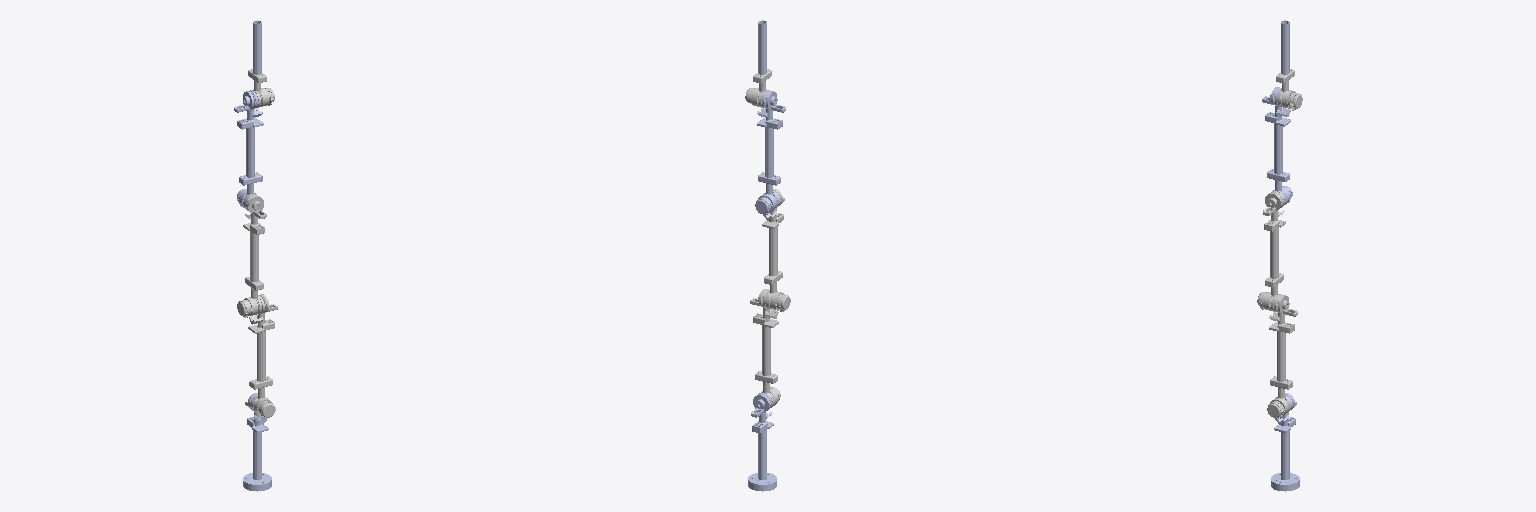
robot.urdf — out:
<?xml version="1.0" ?>
<robot
  name="out">
  <link
    name="base_link">
    <inertial>
      <origin
        xyz="3.81830135287586E-07 0.000490233160051715 0.0680911726169037"
        rpy="0 0 0" />
      <mass
        value="0.0392655917096801" />
      <inertia
        ixx="9.43410382858083E-05"
        ixy="-1.44041094435164E-10"
        ixz="-5.32973135063326E-10"
        iyy="9.35104576671302E-05"
        iyz="-7.06820587107806E-07"
        izz="4.67523617248987E-06" />
    </inertial>
    <visual>
      <origin
        xyz="0 0 0"
        rpy="0 0 0" />
      <geometry>
        <mesh
          filename="package://out/meshes/base_link.STL" />
      </geometry>
      <material
        name="">
        <color
          rgba="0.792156862745098 0.819607843137255 0.933333333333333 1" />
      </material>
    </visual>
    <collision>
      <origin
        xyz="0 0 0"
        rpy="0 0 0" />
      <geometry>
        <mesh
          filename="package://out/meshes/base_link.STL" />
      </geometry>
    </collision>
  </link>
  <link
    name="l1">
    <inertial>
      <origin
        xyz="-0.0775363356468722 0.000422757078719242 0.0209719220698855"
        rpy="0 0 0" />
      <mass
        value="0.0481140132679658" />
      <inertia
        ixx="4.25376178264651E-06"
        ixy="9.89719233172601E-07"
        ixz="-3.66991350194768E-06"
        iyy="0.000166336706299027"
        iyz="6.6021107795002E-09"
        izz="0.000167508840406389" />
    </inertial>
    <visual>
      <origin
        xyz="0 0 0"
        rpy="0 0 0" />
      <geometry>
        <mesh
          filename="package://out/meshes/l1.STL" />
      </geometry>
      <material
        name="">
        <color
          rgba="0.847058823529412 0.847058823529412 0.847058823529412 1" />
      </material>
    </visual>
    <collision>
      <origin
        xyz="0 0 0"
        rpy="0 0 0" />
      <geometry>
        <mesh
          filename="package://out/meshes/l1.STL" />
      </geometry>
    </collision>
  </link>
  <joint
    name="j1"
    type="revolute">
    <origin
      xyz="0 0.00948960000093205 0.124300000000103"
      rpy="1.5707963267949 1.5707963267949 0" />
    <parent
      link="base_link" />
    <child
      link="l1" />
    <axis
      xyz="0 0 1" />
	<limit effort="300" lower="-2.96705972839" upper="2.96705972839" velocity="10"/>
  </joint>
  <link
    name="l2">
    <inertial>
      <origin
        xyz="-0.0775266421097145 0.00040698713081562 0.0209719226551794"
        rpy="0 0 0" />
      <mass
        value="0.048114013091611" />
      <inertia
        ixx="4.24702973489523E-06"
        ixy="1.05106797568013E-06"
        ixz="-3.67698119293867E-06"
        iyy="0.000166415860643582"
        iyz="1.81256684874256E-08"
        izz="0.000167581262863039" />
    </inertial>
    <visual>
      <origin
        xyz="0 0 0"
        rpy="0 0 0" />
      <geometry>
        <mesh
          filename="package://out/meshes/l2.STL" />
      </geometry>
      <material
        name="">
        <color
          rgba="0.847058823529412 0.847058823529412 0.847058823529412 1" />
      </material>
    </visual>
    <collision>
      <origin
        xyz="0 0 0"
        rpy="0 0 0" />
      <geometry>
        <mesh
          filename="package://out/meshes/l2.STL" />
      </geometry>
    </collision>
  </link>
  <joint
    name="j2"
    type="revolute">
    <origin
      xyz="-0.152400000000055 0.00948960000012492 0.0199895999994416"
      rpy="1.57079632677987 6.81298260196904E-18 4.58383439686871E-17" />
    <parent
      link="l1" />
    <child
      link="l2" />
    <axis
      xyz="0 0 1" />
	<limit effort="300" lower="-2.96705972839" upper="2.96705972839" velocity="10"/>
  </joint>
  <link
    name="l3">
    <inertial>
      <origin
        xyz="0.077526636321468 -0.000406452303621498 0.0209719515362998"
        rpy="0 0 0" />
      <mass
        value="0.0481140130743189" />
      <inertia
        ixx="4.24699051210553E-06"
        ixy="1.05330102905974E-06"
        ixz="3.67688985446539E-06"
        iyy="0.00016641680669748"
        iyz="-1.85466771433333E-08"
        izz="0.000167582176419347" />
    </inertial>
    <visual>
      <origin
        xyz="0 0 0"
        rpy="0 0 0" />
      <geometry>
        <mesh
          filename="package://out/meshes/l3.STL" />
      </geometry>
      <material
        name="">
        <color
          rgba="0.792156862745098 0.819607843137255 0.933333333333333 1" />
      </material>
    </visual>
    <collision>
      <origin
        xyz="0 0 0"
        rpy="0 0 0" />
      <geometry>
        <mesh
          filename="package://out/meshes/l3.STL" />
      </geometry>
    </collision>
  </link>
  <joint
    name="j3"
    type="revolute">
    <origin
      xyz="-0.152400000000286 0.00948960000089014 0.0199896000011297"
      rpy="-1.57079632680991 4.58383439548628E-17 3.14159265358979" />
    <parent
      link="l2" />
    <child
      link="l3" />
    <axis
      xyz="0 0 1" />
	<limit effort="300" lower="-2.96705972839" upper="2.96705972839" velocity="10"/>
  </joint>
  <link
    name="l4">
    <inertial>
      <origin
        xyz="-0.0186830493415796 -6.20813135235876E-05 0.022135458347231"
        rpy="0 0 0" />
      <mass
        value="0.0220182823322274" />
      <inertia
        ixx="1.98116592302733E-06"
        ixy="1.08305327617486E-08"
        ixz="-8.92033835283855E-07"
        iyy="8.70461098190497E-06"
        iyz="8.64734798578683E-09"
        izz="9.07949191695857E-06" />
    </inertial>
    <visual>
      <origin
        xyz="0 0 0"
        rpy="0 0 0" />
      <geometry>
        <mesh
          filename="package://out/meshes/l4.STL" />
      </geometry>
      <material
        name="">
        <color
          rgba="0.847058823529412 0.847058823529412 0.847058823529412 1" />
      </material>
    </visual>
    <collision>
      <origin
        xyz="0 0 0"
        rpy="0 0 0" />
      <geometry>
        <mesh
          filename="package://out/meshes/l4.STL" />
      </geometry>
    </collision>
  </link>
  <joint
    name="j4"
    type="revolute">
    <origin
      xyz="0.152399999999532 -0.00948959999811314 0.0199896000001312"
      rpy="1.5707963267949 9.27091432324333E-16 3.14159265358979" />
    <parent
      link="l3" />
    <child
      link="l4" />
    <axis
      xyz="0 0 1" />
	<limit effort="300" lower="-2.96705972839" upper="2.96705972839" velocity="10"/>
  </joint>
  <link
    name="l5">
    <inertial>
      <origin
        xyz="-0.0762000000004666 1.17961196366423E-16 0.0199896000000001"
        rpy="0 0 0" />
      <mass
        value="0.00263328296223896" />
      <inertia
        ixx="8.03151303482884E-08"
        ixy="8.94418173979679E-22"
        ixz="2.14569496371279E-22"
        iyy="1.31432419211271E-06"
        iyz="6.80873041709125E-25"
        izz="1.31432419211271E-06" />
    </inertial>
    <visual>
      <origin
        xyz="0 0 0"
        rpy="0 0 0" />
      <geometry>
        <mesh
          filename="package://out/meshes/l5.STL" />
      </geometry>
      <material
        name="">
        <color
          rgba="0.792156862745098 0.819607843137255 0.933333333333333 1" />
      </material>
    </visual>
    <collision>
      <origin
        xyz="0 0 0"
        rpy="0 0 0" />
      <geometry>
        <mesh
          filename="package://out/meshes/l5.STL" />
      </geometry>
    </collision>
  </link>
  <joint
    name="g5"
    type="fixed">
    <origin
      xyz="0 0 0"
      rpy="0 0 0" />
    <parent
      link="l4" />
    <child
      link="l5" />
    <axis
      xyz="0 0 0" />
  </joint>
</robot>

--- What the picture shows (computed from the rendered views, not written in the file) ---
Views: 3 orthographic renders of the robot side by side, from view 1: azimuth 30°, elevation 25°; view 2: azimuth 150°, elevation 25°; view 3: azimuth 330°, elevation 25°.
Robot: out — 6 links, 5 joints (4 revolute, 1 fixed); root link base_link; default pose: all joints at 0.
Visible links, largest first — view 1: l2, l1, l3, base_link; view 2: l3, base_link, l2, l1; view 3: l1, l2, l3, base_link, l4.
Link boxes in pixels (bbox=[...]): l2: bbox=[237, 194, 266, 317]; l1: bbox=[248, 294, 277, 417]; l3: bbox=[234, 90, 263, 208]; base_link: bbox=[243, 393, 271, 491]; l3: bbox=[755, 90, 785, 214]; base_link: bbox=[748, 393, 776, 491]; l2: bbox=[762, 189, 790, 311]; l1: bbox=[750, 289, 780, 407]; l1: bbox=[1267, 294, 1297, 418]; l2: bbox=[1257, 191, 1285, 311]; l3: bbox=[1262, 87, 1292, 204]; base_link: bbox=[1271, 393, 1299, 491]; l4: bbox=[1276, 69, 1302, 110].
Size in the robot's own frame: 0.0586 by 0.0586 by 0.6958 metres.
Meshes: 6 distinct files referenced, 6 mesh visuals loaded (6 binary STL).
